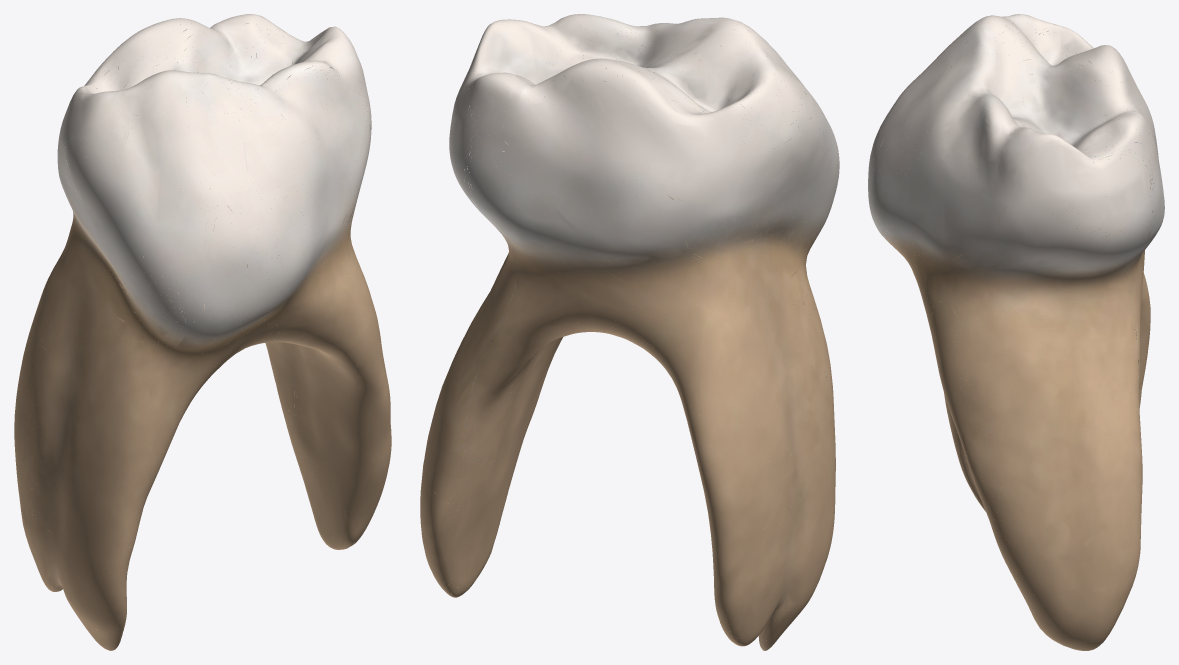
3 views of the same model, side by side, from view 1: azimuth 30°, elevation 25°; view 2: azimuth 150°, elevation 25°; view 3: azimuth 270°, elevation 25° (orthographic). The views are drawn at different scales.
Parts seen in each view (by area): view 1: diente-74 (×6); view 2: diente-74 (×6); view 3: diente-74 (×6).
Boxes of the visible parts, x1,y1,x2,y2 form: diente-74 (×6): (14,14,391,650); diente-74 (×6): (420,14,839,650); diente-74 (×6): (868,14,1164,650).
Size of the model in its own units: 0.00963 by 0.0158 by 0.00776.
Materials: 1 (1 with a texture image).
